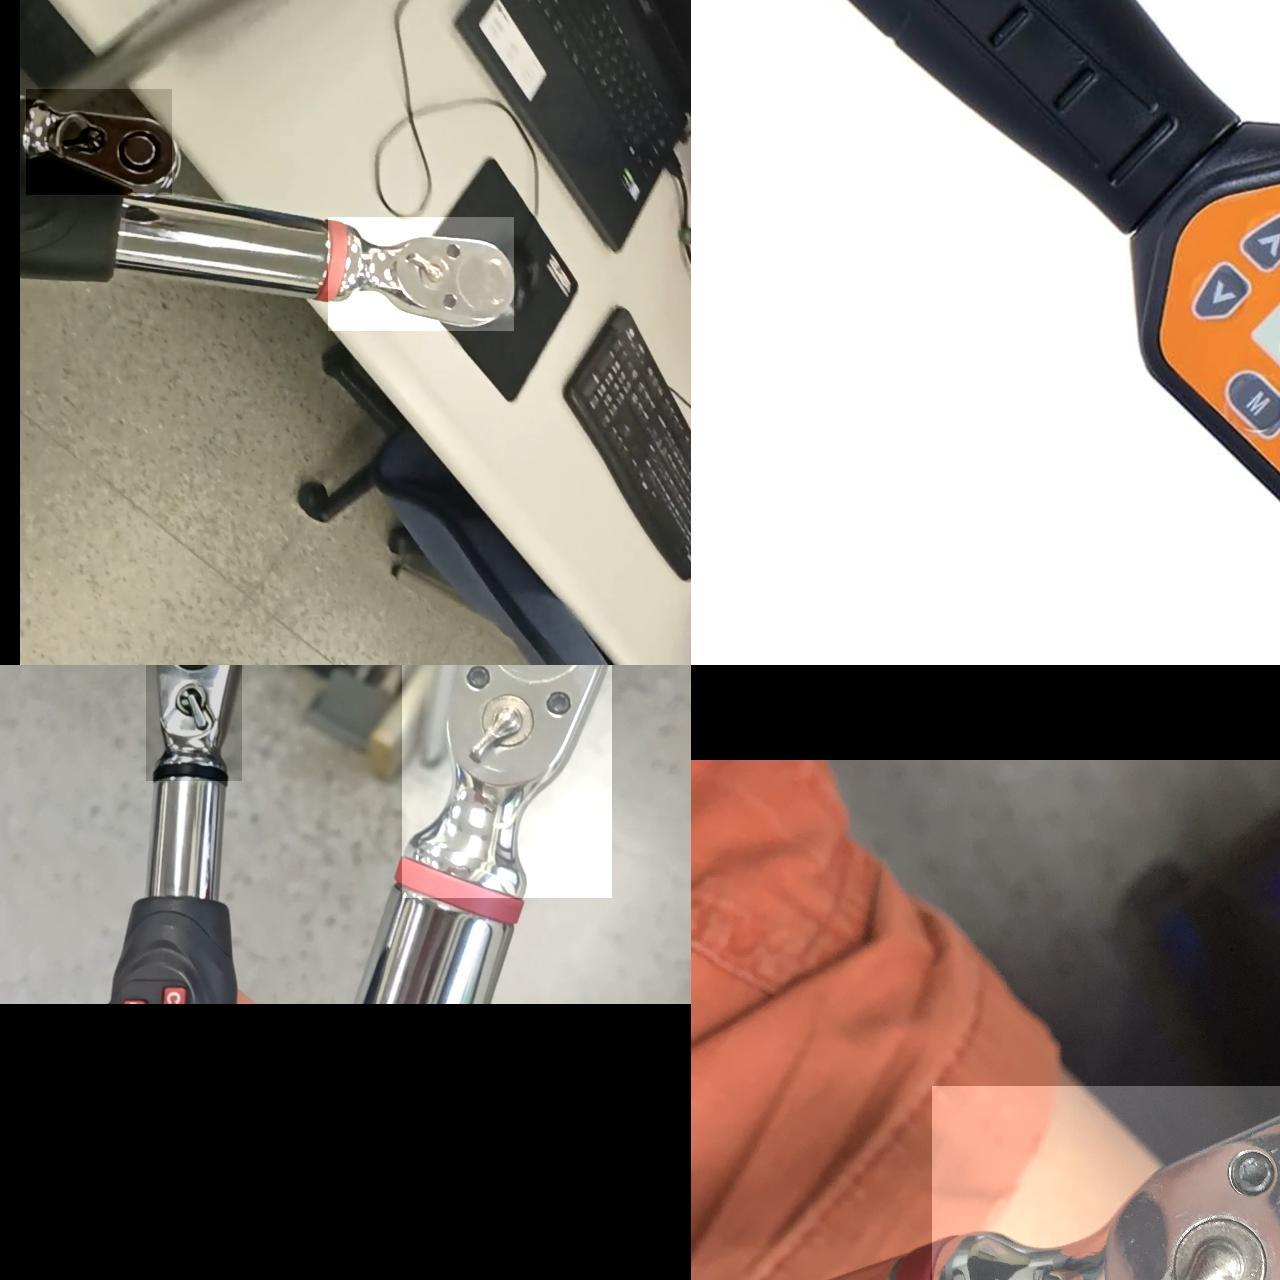Tool: (932, 1085, 1280, 1280), (402, 665, 612, 897), (328, 216, 514, 330), (26, 88, 172, 194), (146, 665, 242, 780)
